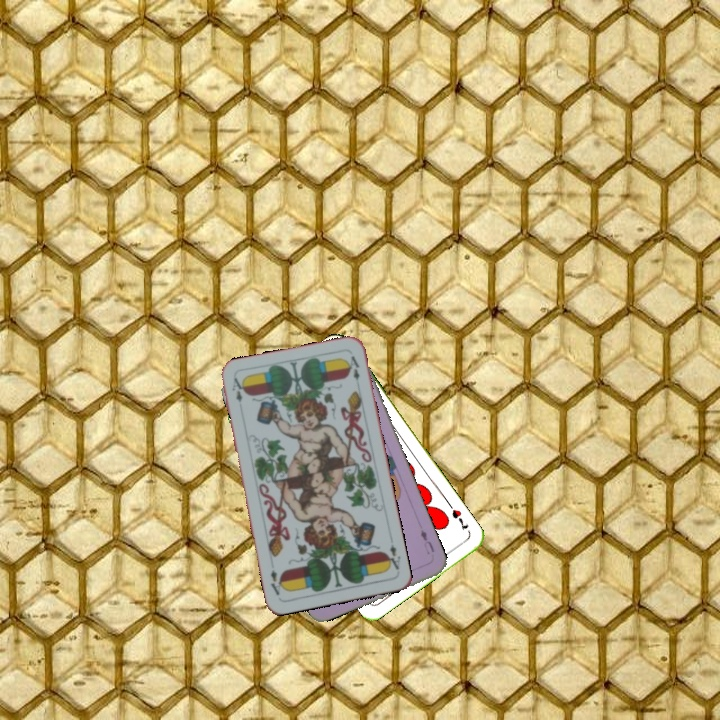EA: (382, 540, 403, 572), (228, 373, 246, 405)
EU: (416, 526, 437, 557)
H7: (448, 505, 471, 532)
